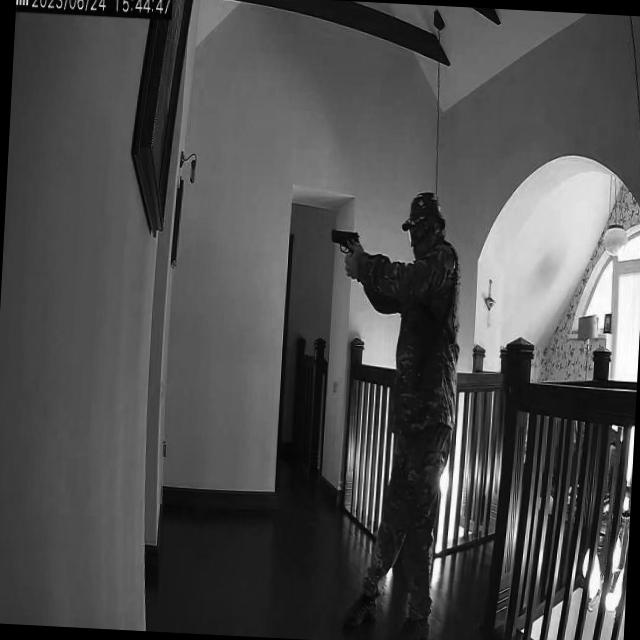gun: (329, 226, 364, 259)
person with a gun: (342, 190, 464, 640)
